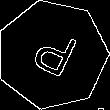P_SW: (24, 24, 80, 85)
